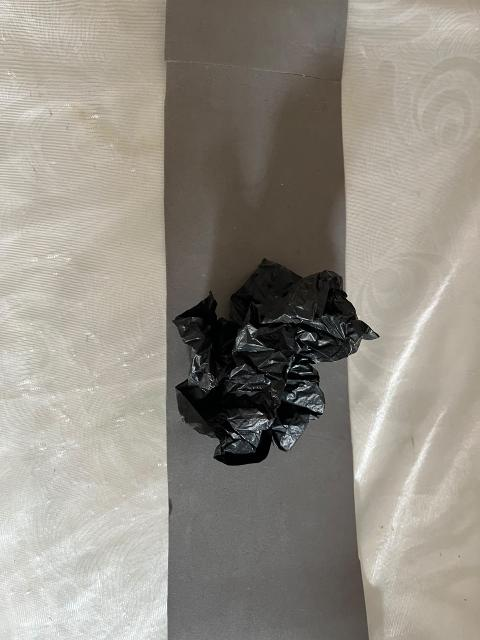LDPE: (117, 207, 428, 561)
